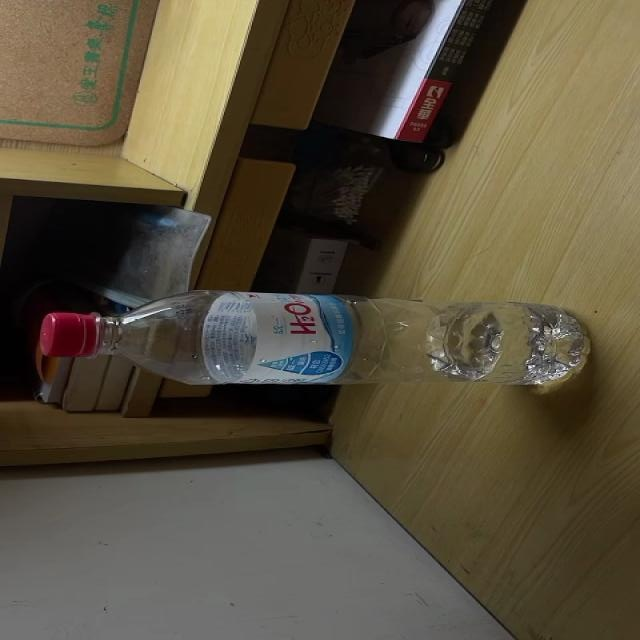Water: (36, 291, 593, 388)
